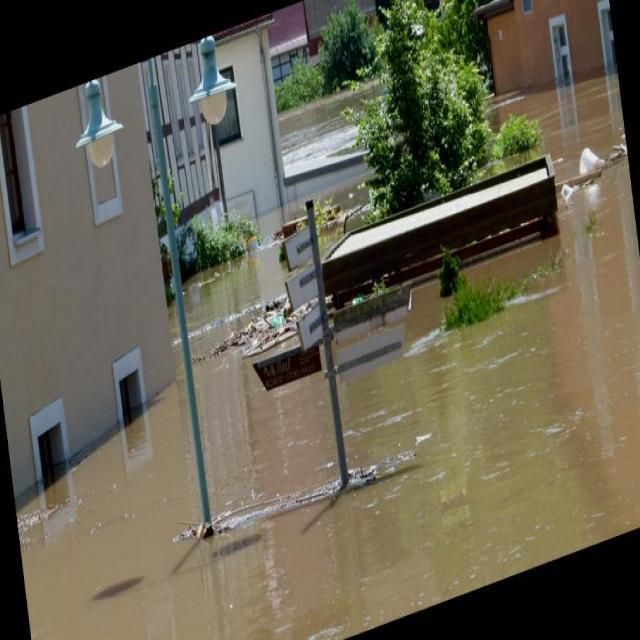flood: (5, 180, 640, 639)
